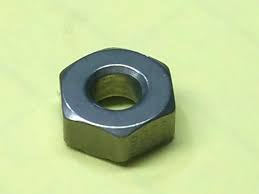No thread: (47, 45, 185, 165)
